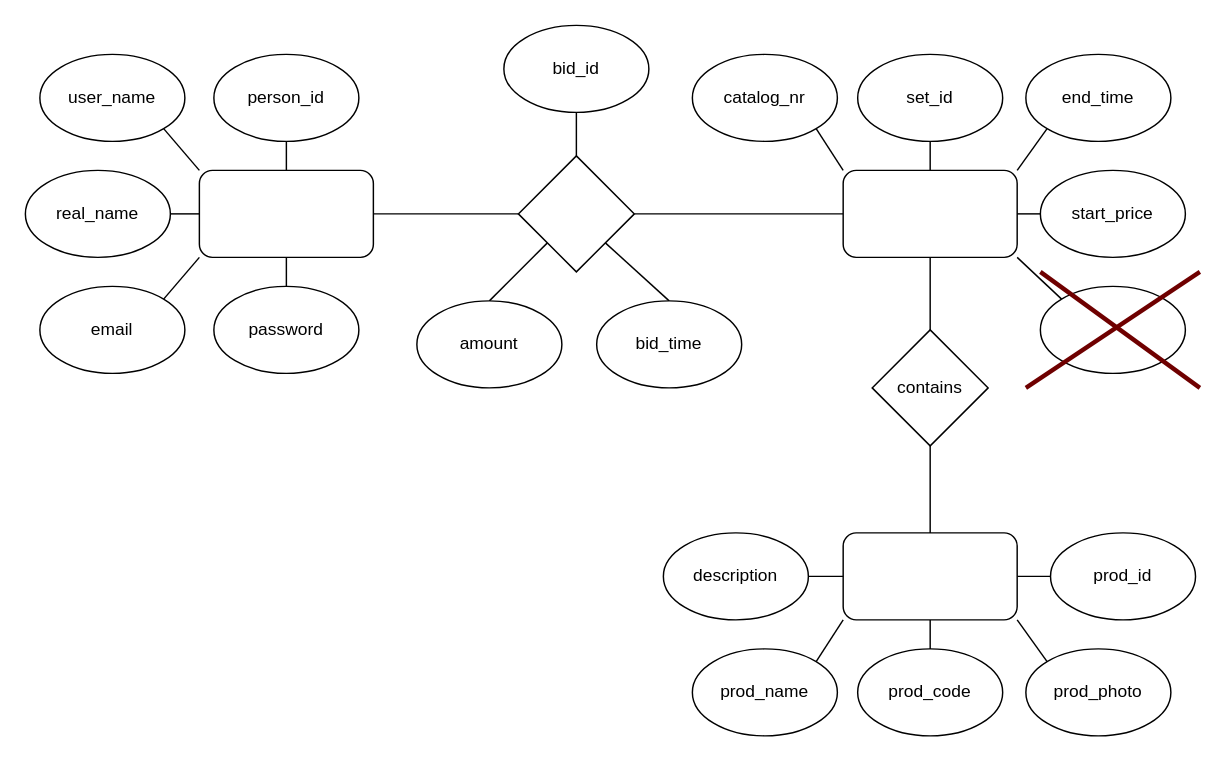
The diagram is 1228 pixels wide and 761 high, and some of its shapes have lost their labels. Here are the shapes that lost their labels. From the top down, the centre of each, then its label:
At pixel 285 213: "person".
At pixel 575 213: "bids".
At pixel 929 213: "set".
At pixel 1112 329: "highest_bid".
At pixel 929 575: "product".
